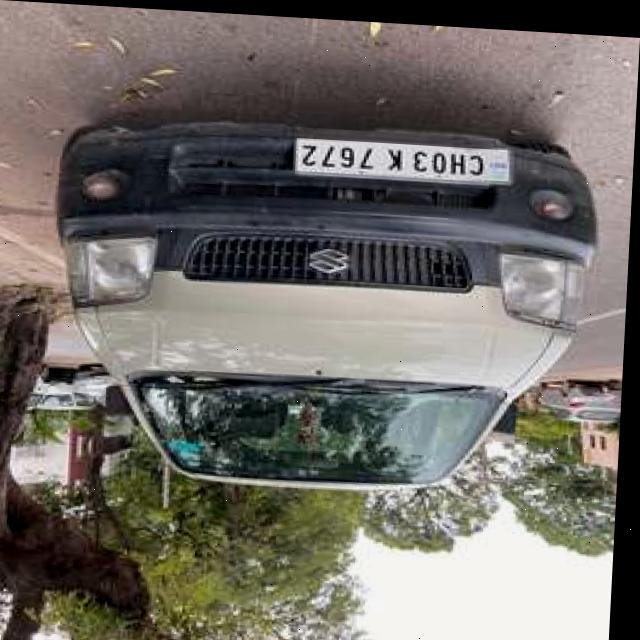plate: (292, 129, 515, 183)
